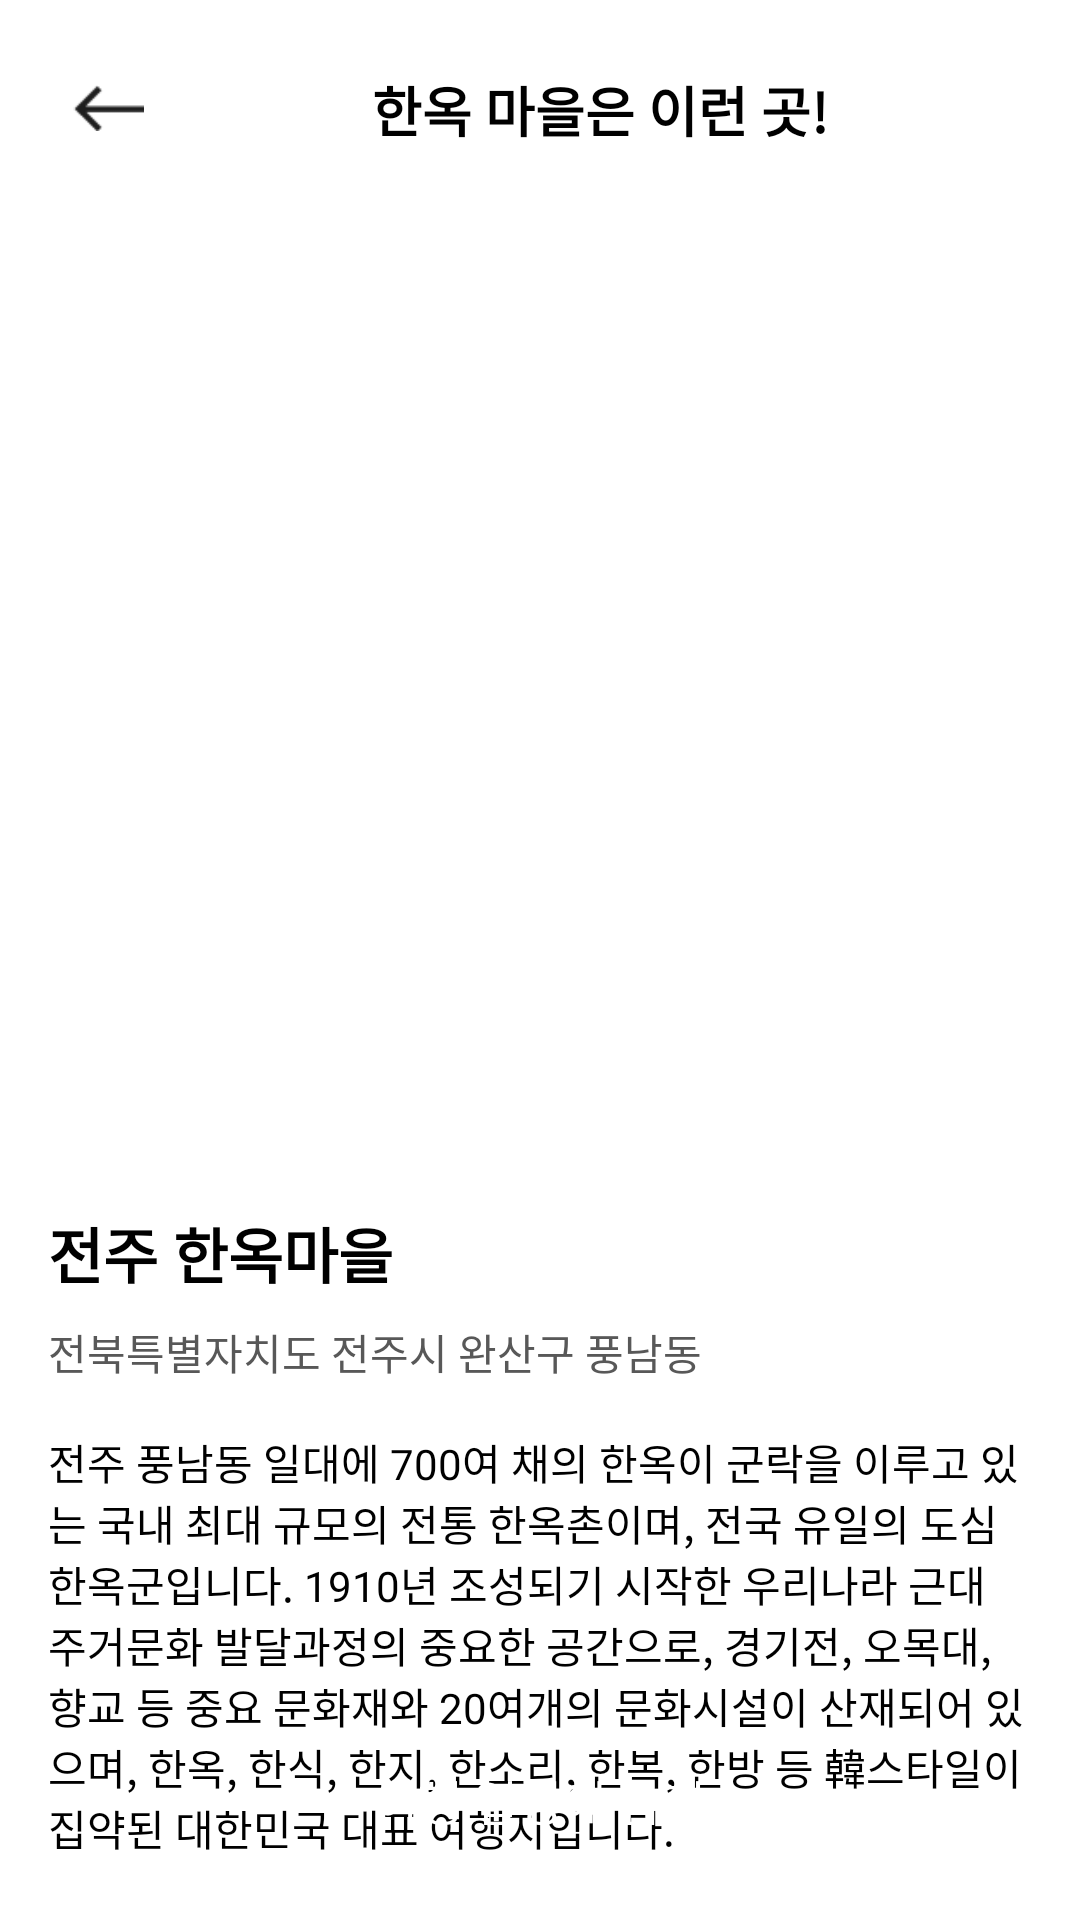

Where icons sit on this 1080w x 1920h app screen, as (x1, y1, x2, y2):
back: (74, 86, 144, 131)
